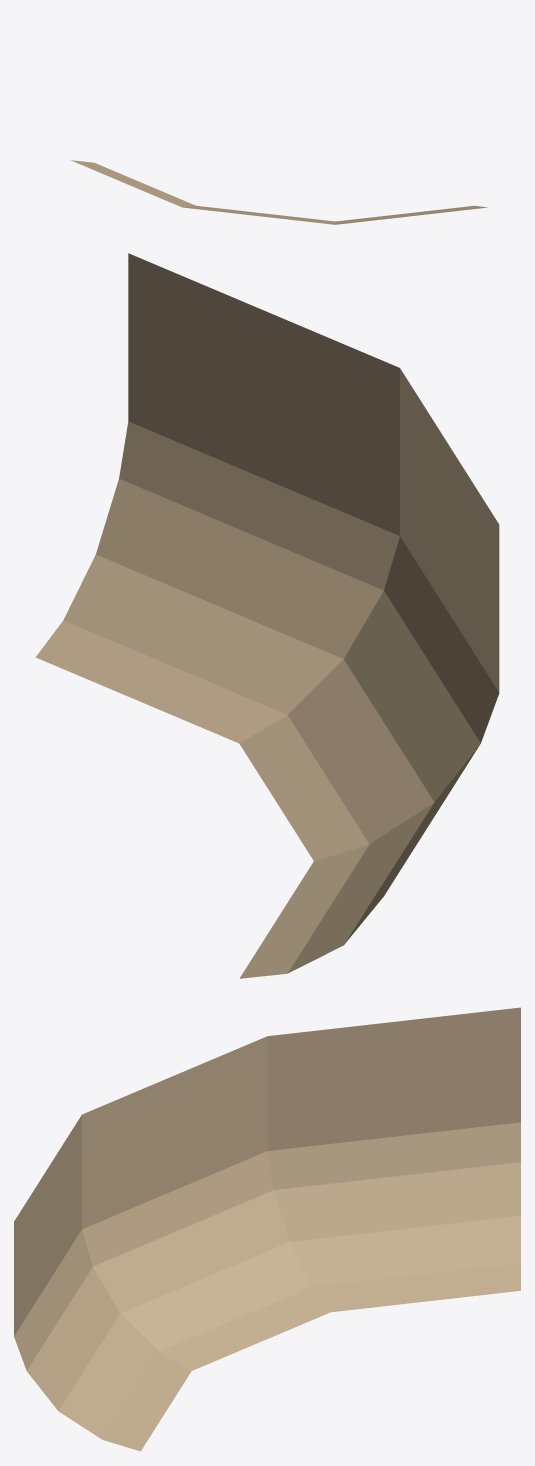
The model's file is Escarpment_Terrain_Corner_Inner_2x2_Base.glb.
The picture shows the model from 3 angles, top to bottom: view 1: azimuth 30°, elevation 25°; view 2: azimuth 150°, elevation 25°; view 3: azimuth 270°, elevation 25°; orthographic projection. The views are drawn at different scales.
Visible parts, largest first — view 1: Escarpment_Terrain_Corner_Inner_2x2_Base; view 2: Escarpment_Terrain_Corner_Inner_2x2_Base; view 3: Escarpment_Terrain_Corner_Inner_2x2_Base.
Part boxes in pixels (box(x1,y1,x2,y2)): Escarpment_Terrain_Corner_Inner_2x2_Base: box(71, 160, 487, 224); Escarpment_Terrain_Corner_Inner_2x2_Base: box(35, 253, 499, 978); Escarpment_Terrain_Corner_Inner_2x2_Base: box(14, 1007, 520, 1451).
Size of the model in its own units: 2 by 1 by 2.
